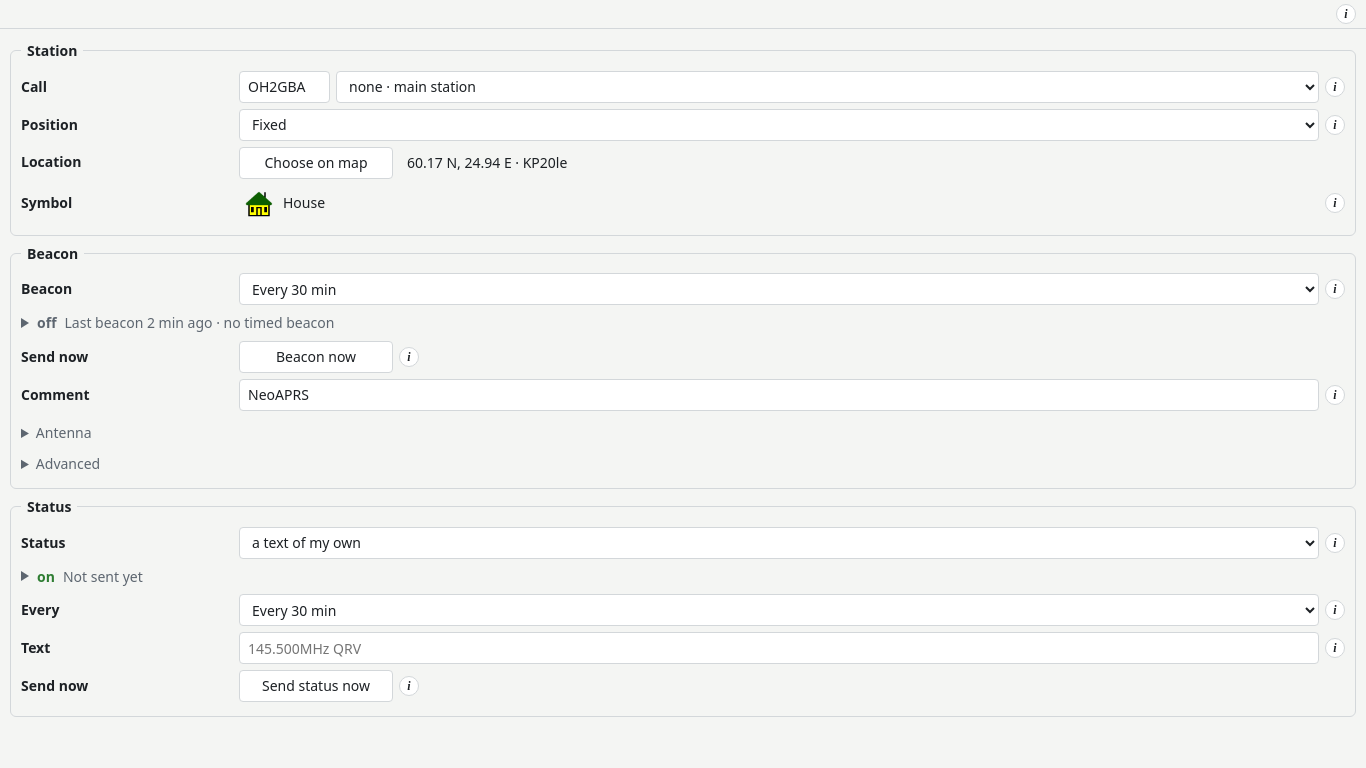
Scenario: BeaconPane › Send status now, in the Status group › is armed one at a time: arming the other button forgets the first
The width and height of the screenshot is (1366, 768).
Click the button with id "status-now". click: {"x": 316, "y": 686}
box: [239,670,393,702]
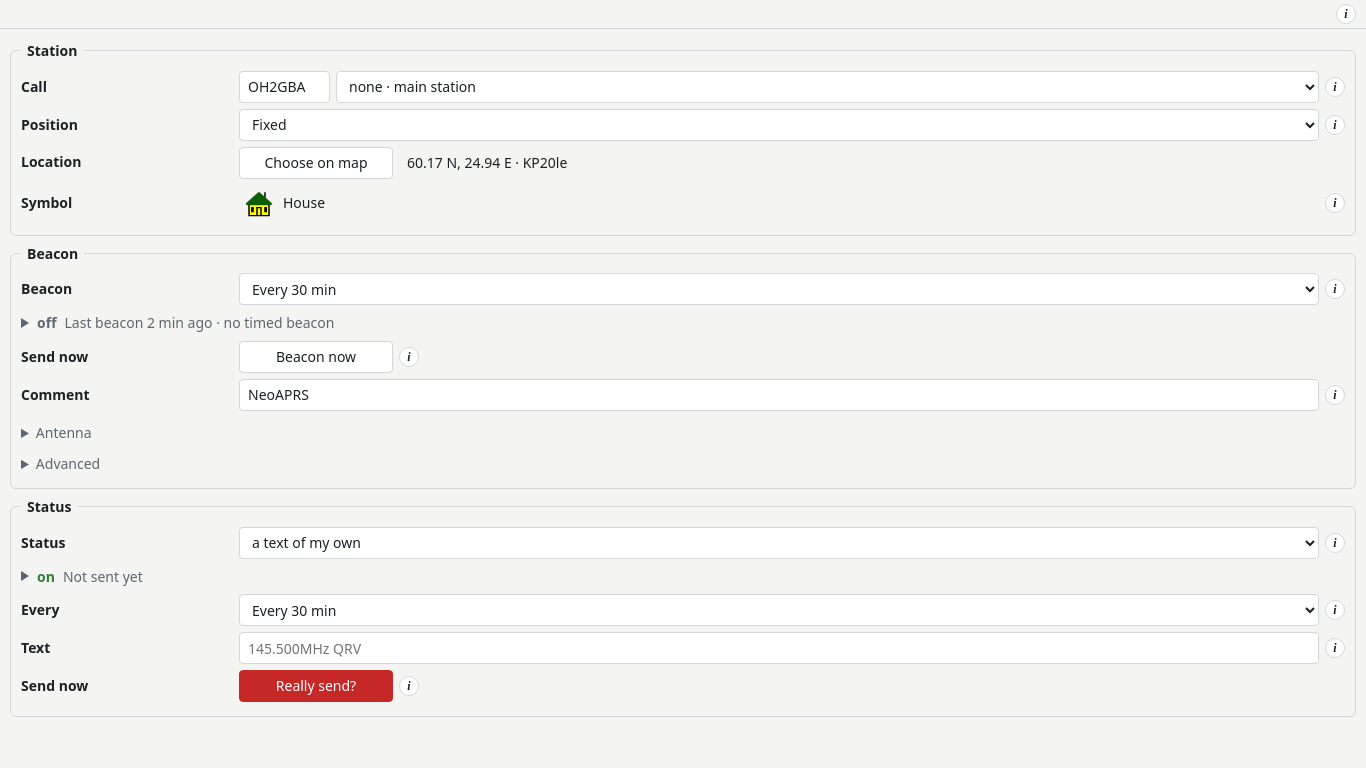
Click the button with id "status-now". click: {"x": 316, "y": 357}
box: [239,341,393,373]
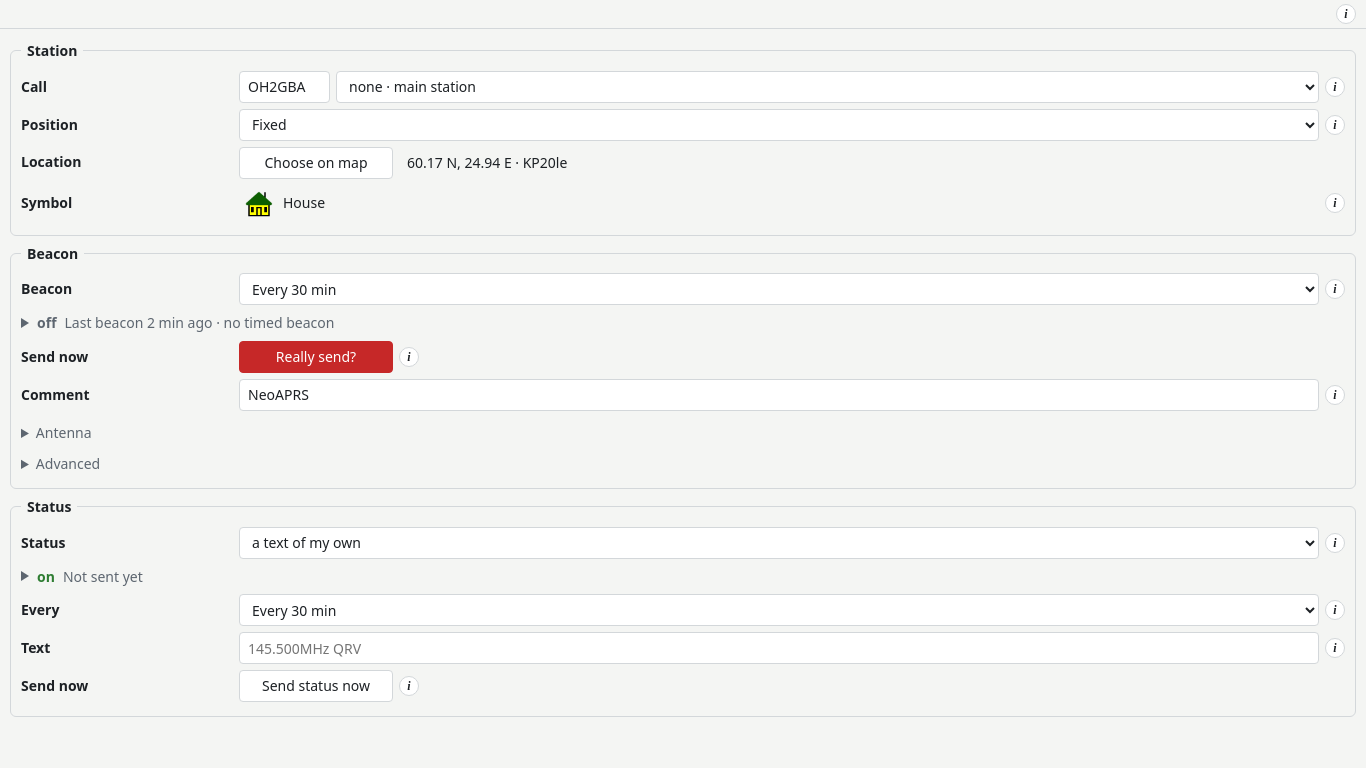
Check: the button with id "status-now" reads "Send status now", box [239,670,393,702]
Check: the button with id "status-now" reads "Really send?", box [239,341,393,373]
